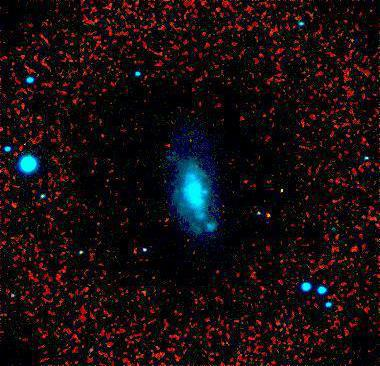star: (273, 181, 303, 211)
